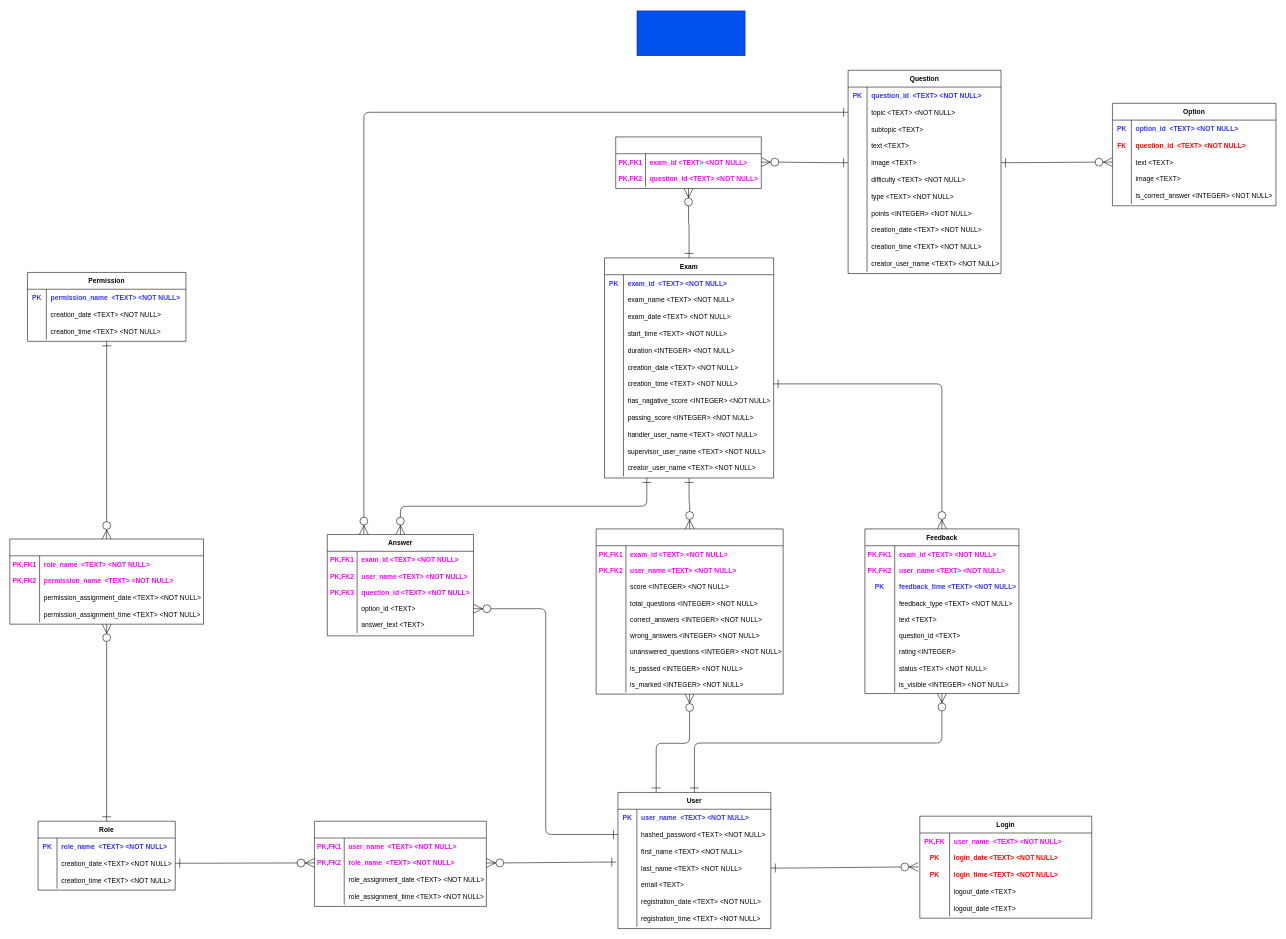
Some shapes in this 1286 by 939 pixel diagram are drawn without their labels. The shapes that lost their labels are listed below. From the top down, each one's box as (x1, y1, x2, y2) in pixels, then its label:
(636, 10, 745, 56): LDM
(615, 136, 761, 188): Exam_Question
(9, 538, 204, 624): Role_Permission
(596, 528, 783, 694): User_Exam
(314, 821, 486, 906): User_Role
